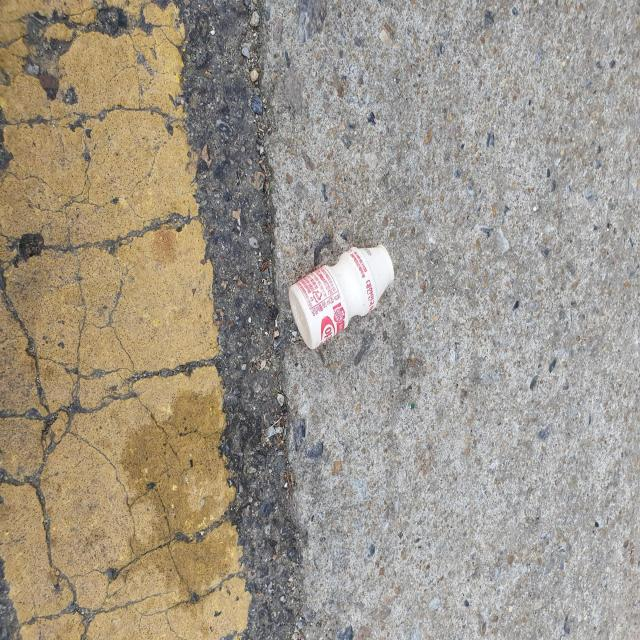plastic: (289, 244, 394, 349)
